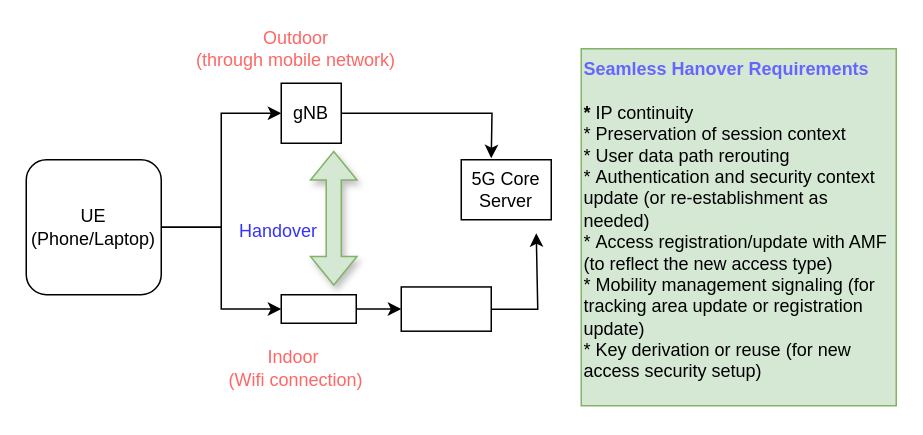
The diagram is 923 pixels wide and 435 high, and some of its shapes have lost their labels. Each missing label, with the centre of its shape:
"N3IWF Server" belongs at point 445,308.
"WiFi" belongs at point 318,308.
